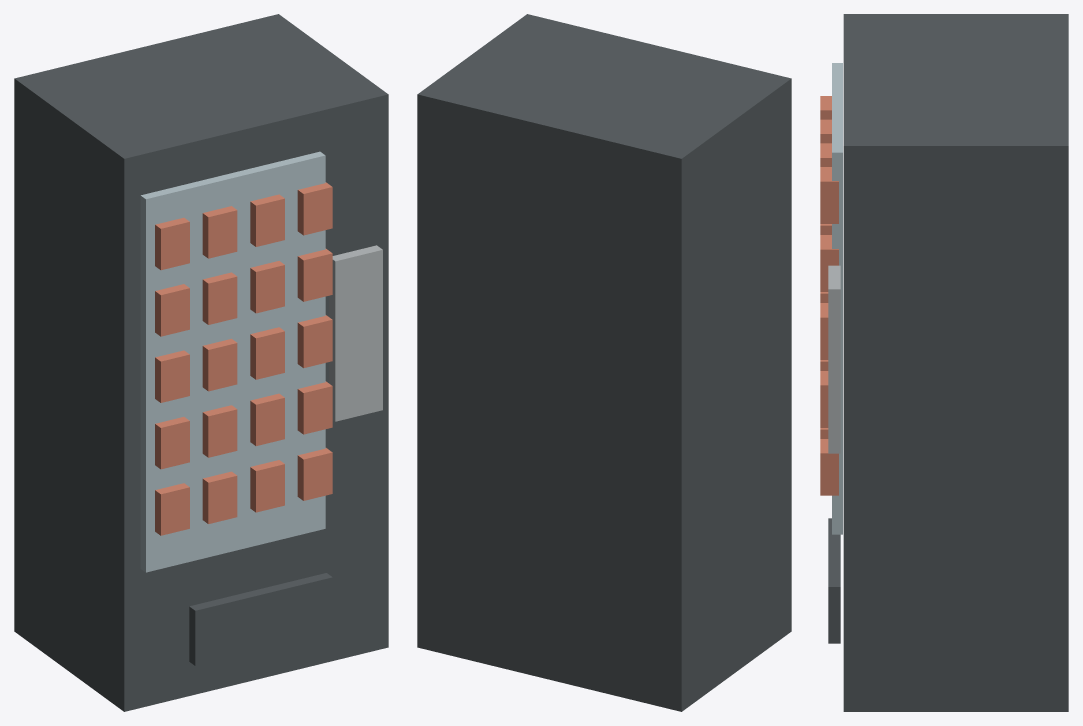
The model's file is 16_snack_vending_machine.glb.
3 views of the same model, side by side, from view 1: azimuth 30°, elevation 25°; view 2: azimuth 150°, elevation 25°; view 3: azimuth 270°, elevation 25° (orthographic). The views are drawn at different scales.
Parts seen in each view (by area): view 1: body, window, pickup, panel, snack13, snack33, snack03, snack11, snack23, snack43, snack31, snack41 (+12 smaller); view 2: body; view 3: body, window, panel, pickup, snack43, snack03, snack33, snack13, snack23.
Boxes of the visible parts, left/top/right/bottom form: body: left=14, top=14, right=388, bottom=711; window: left=140, top=151, right=325, bottom=572; pickup: left=189, top=573, right=332, bottom=665; panel: left=329, top=245, right=382, bottom=421; snack13: left=297, top=381, right=332, bottom=434; snack33: left=297, top=248, right=332, bottom=301; snack03: left=297, top=448, right=332, bottom=500; snack11: left=202, top=405, right=237, bottom=457; snack23: left=297, top=315, right=332, bottom=368; snack43: left=297, top=182, right=332, bottom=235; snack31: left=202, top=272, right=237, bottom=324; snack41: left=202, top=206, right=237, bottom=258; body: left=417, top=14, right=791, bottom=711; body: left=843, top=14, right=1068, bottom=711; window: left=832, top=63, right=842, bottom=534; panel: left=828, top=265, right=840, bottom=453; pickup: left=828, top=518, right=840, bottom=643; snack43: left=820, top=167, right=838, bottom=223; snack03: left=820, top=439, right=838, bottom=495; snack33: left=820, top=235, right=838, bottom=291; snack13: left=820, top=371, right=828, bottom=427; snack23: left=820, top=303, right=828, bottom=359.
Bounding box in the file's own units: 1 × 2 × 0.795.
